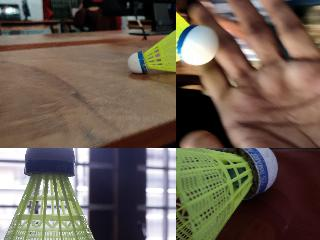shuttlecock: (0, 148, 110, 239), (176, 148, 278, 239), (176, 0, 218, 72), (127, 26, 175, 75)
